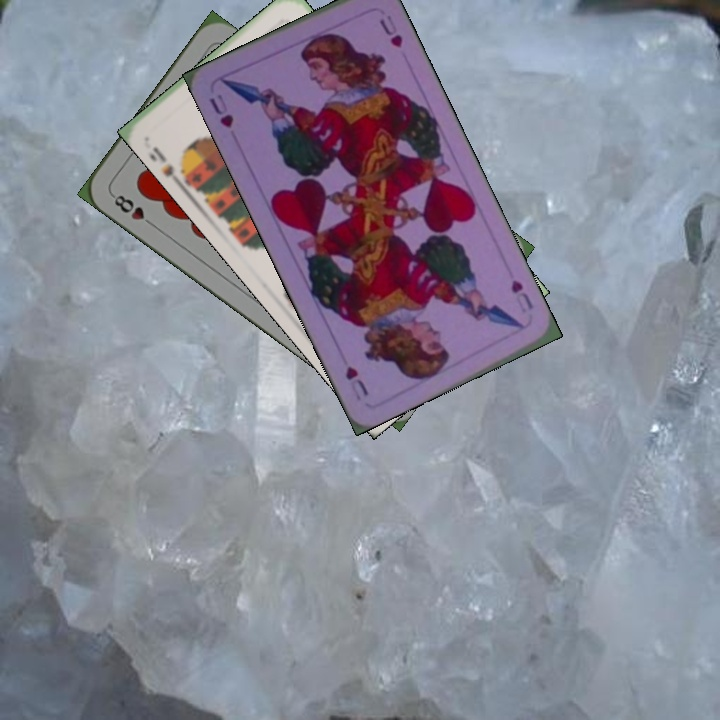H8: (107, 189, 158, 230)
HU: (205, 89, 236, 131), (507, 275, 537, 316)
S9: (146, 143, 194, 184)
